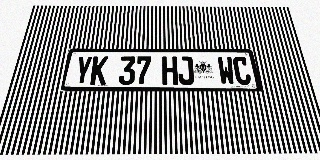3: (118, 56, 136, 85)
7: (135, 56, 151, 85)
C: (232, 56, 252, 85)
H: (162, 56, 178, 85)
J: (177, 56, 194, 85)
K: (90, 56, 109, 85)
W: (217, 56, 236, 85)
Y: (73, 56, 93, 85)
